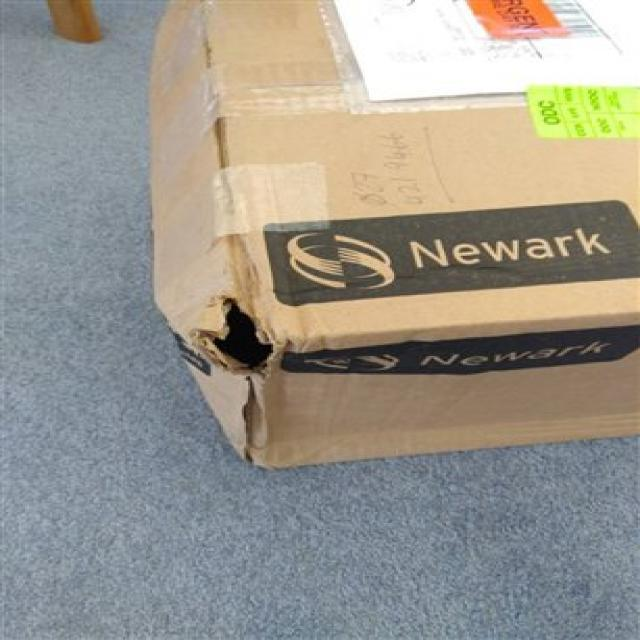hole: (199, 291, 282, 389)
